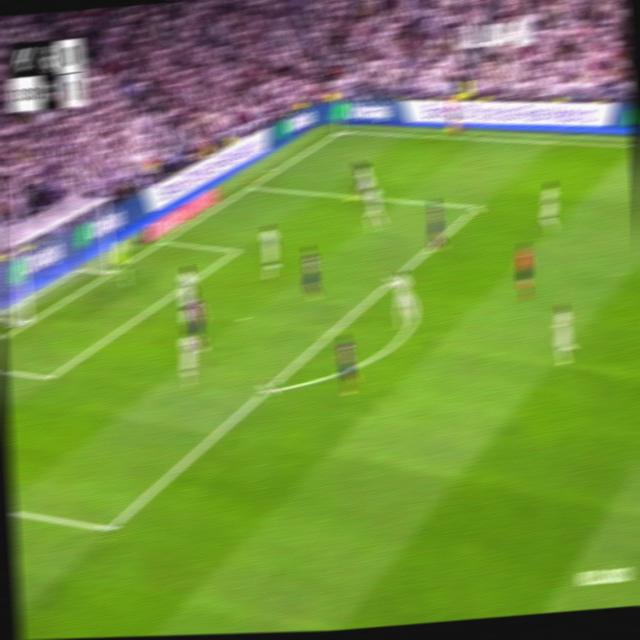bigarea_bottom_inner: (100, 512, 120, 545)
bigarea_top_inner: (468, 196, 483, 217)
bigarea_top_outter: (245, 176, 259, 194)
bottom_arc_area_intersection: (259, 373, 278, 403)
corner: (332, 124, 347, 137)
smallarea_bottom_inner: (42, 365, 57, 390)
smallarea_top_inner: (228, 239, 243, 262)
top_arc_area_intersection: (386, 268, 400, 289)
